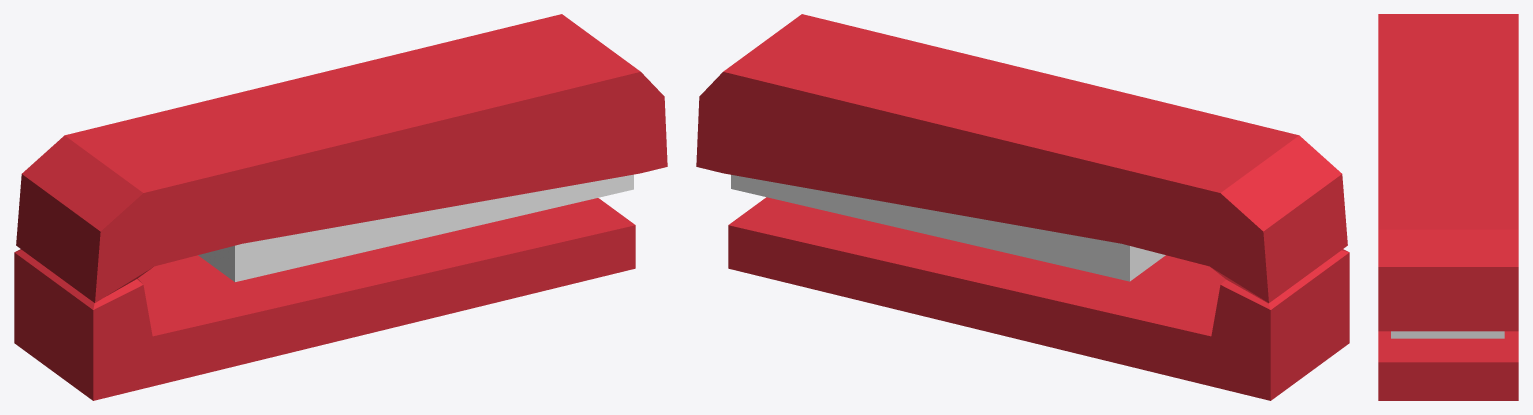
Rendered from Stapler.fbx.
3 renders of one model, left to right at view 1: azimuth 30°, elevation 25°; view 2: azimuth 150°, elevation 25°; view 3: azimuth 270°, elevation 25°, orthographic. The views are drawn at different scales.
Parts seen in each view (by area): view 1: Cube.053; view 2: Cube.053; view 3: Cube.053.
Part boxes in pixels (x1,y1,x2,y2): Cube.053: (14,14,667,400); Cube.053: (696,14,1349,400); Cube.053: (1378,14,1518,400).
Bounding box in the file's own units: 42.36 × 13.78 × 10.08.
